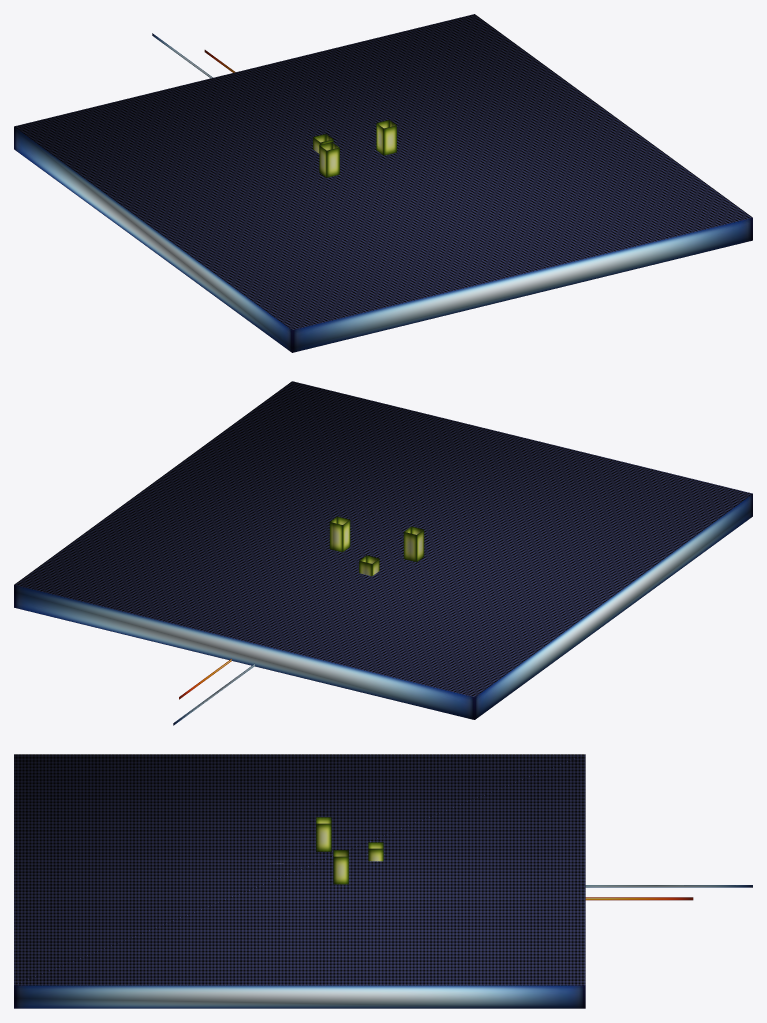
The model's file is ENVI_DigitalWorld.obj.
The picture shows the model from 3 angles, top to bottom: view 1: azimuth 30°, elevation 25°; view 2: azimuth 150°, elevation 25°; view 3: azimuth 270°, elevation 25°; orthographic projection. The views are drawn at different scales.
Parts seen in each view (by area): view 1: Grid, Tube3, Tube5; view 2: Grid, Tube3, Tube5; view 3: Grid, Tube3, Tube5, StripBlue.
Boxes of the visible parts, x1,y1,x2,y2 form: Grid: (14,14,752,352); Tube3: (319,142,339,177); Tube5: (376,120,396,155); Grid: (14,381,752,719); Tube3: (403,526,424,562); Tube5: (329,516,350,552); Grid: (14,754,585,1008); Tube3: (316,817,331,851); Tube5: (333,850,348,884); StripBlue: (585,885,752,887).
Bounding box in the file's own units: 79.13 × 21 × 107.
Materials: 5 (5 with a texture image).
